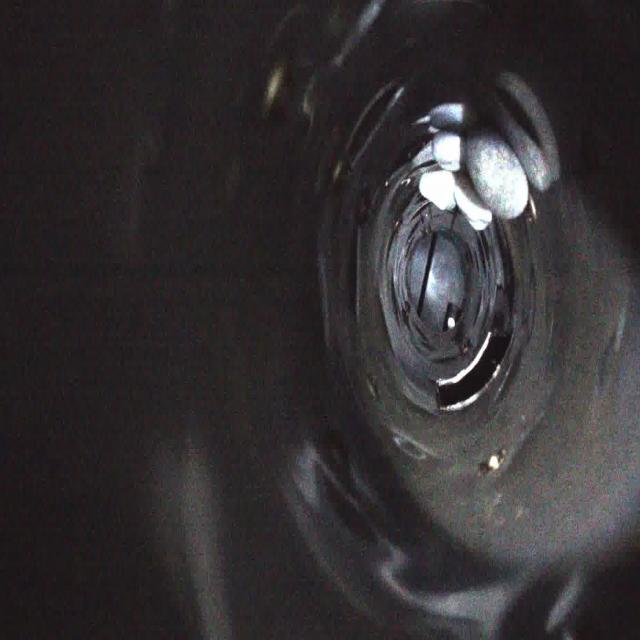crack: (370, 229, 402, 322), (476, 230, 504, 316)
hole: (436, 330, 514, 416)
